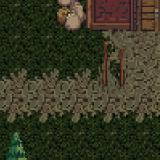Interaction: (95, 50, 130, 91)
Obstacle: (49, 0, 160, 66)
